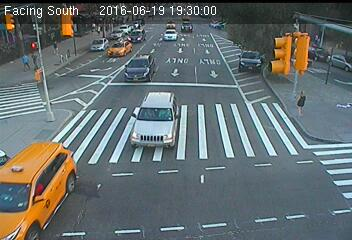neg: (35, 93, 56, 121), (165, 27, 176, 40), (93, 39, 103, 52), (100, 28, 108, 38)
pos: (290, 85, 314, 117), (15, 52, 29, 71), (25, 51, 39, 70), (49, 39, 61, 56)
